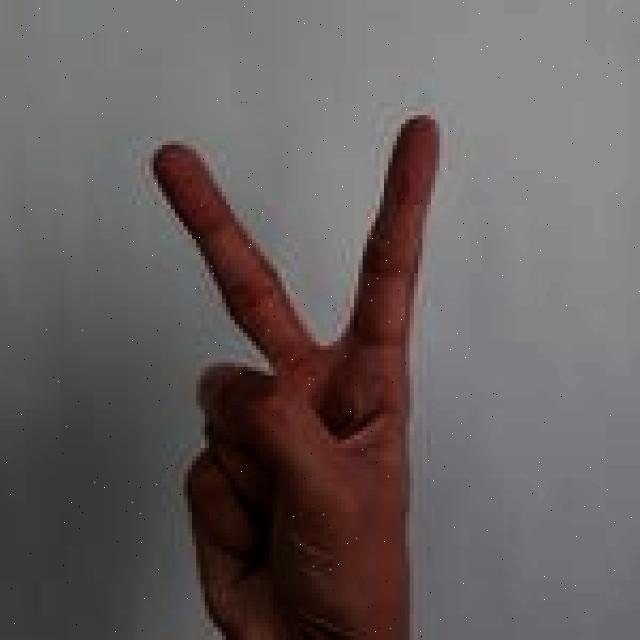V: (145, 110, 446, 640)
